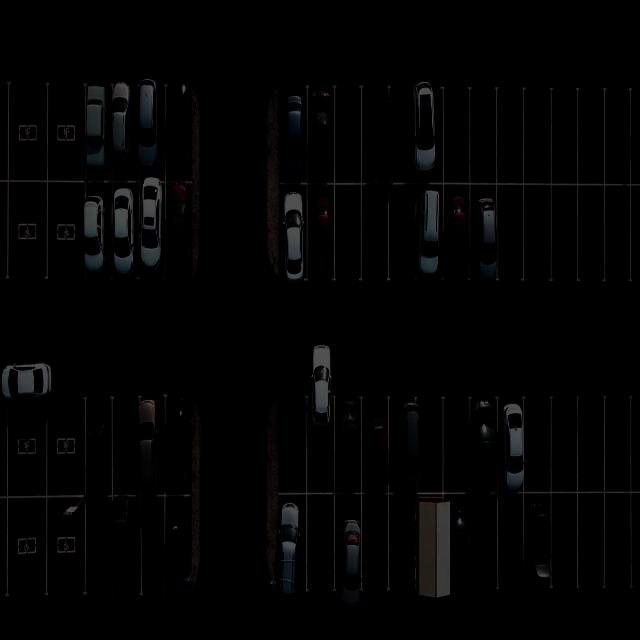empty: (4, 387, 46, 499), (2, 498, 46, 604), (46, 392, 88, 499), (46, 179, 87, 287), (45, 498, 88, 600), (6, 180, 47, 285), (7, 78, 46, 182), (47, 82, 86, 184), (305, 495, 340, 602), (492, 489, 528, 592), (111, 396, 148, 496), (546, 492, 582, 594), (571, 494, 607, 594), (357, 496, 392, 598), (80, 494, 114, 597), (604, 493, 638, 594), (333, 84, 367, 184), (384, 184, 418, 283), (332, 185, 365, 287), (437, 398, 472, 494), (574, 398, 608, 496), (523, 397, 557, 494), (548, 396, 582, 492), (574, 183, 606, 284), (524, 184, 556, 284), (549, 186, 581, 286), (137, 497, 168, 600), (573, 88, 606, 184), (386, 495, 418, 594), (604, 397, 636, 495), (495, 184, 526, 285), (606, 184, 636, 288), (358, 185, 390, 282), (438, 90, 470, 186), (493, 90, 524, 186), (605, 88, 636, 184), (524, 91, 555, 186), (417, 402, 448, 497), (550, 90, 580, 186), (469, 88, 499, 183)
occupied: (358, 83, 398, 185), (274, 492, 310, 602), (436, 496, 472, 603), (424, 496, 459, 606), (466, 491, 503, 595), (331, 490, 366, 598), (410, 498, 445, 606), (163, 182, 201, 281), (163, 493, 199, 597), (305, 183, 340, 288), (390, 400, 427, 498), (111, 497, 146, 600), (466, 399, 503, 496), (523, 489, 558, 590), (468, 185, 502, 288), (358, 396, 394, 493), (77, 180, 110, 285), (135, 180, 168, 284), (492, 398, 528, 493), (332, 394, 366, 494), (131, 397, 165, 496), (110, 178, 142, 283), (280, 182, 311, 290), (81, 396, 114, 497), (411, 88, 445, 185), (438, 183, 470, 286), (304, 392, 336, 495), (414, 183, 446, 285), (163, 397, 196, 494), (307, 87, 339, 186), (133, 83, 164, 182), (165, 85, 196, 182), (82, 84, 111, 183), (281, 87, 310, 186), (111, 85, 138, 182)
